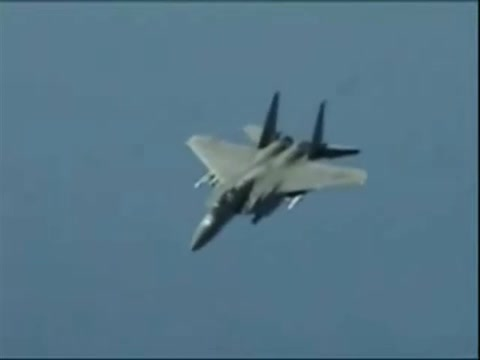aeroplane: (186, 91, 370, 254)
